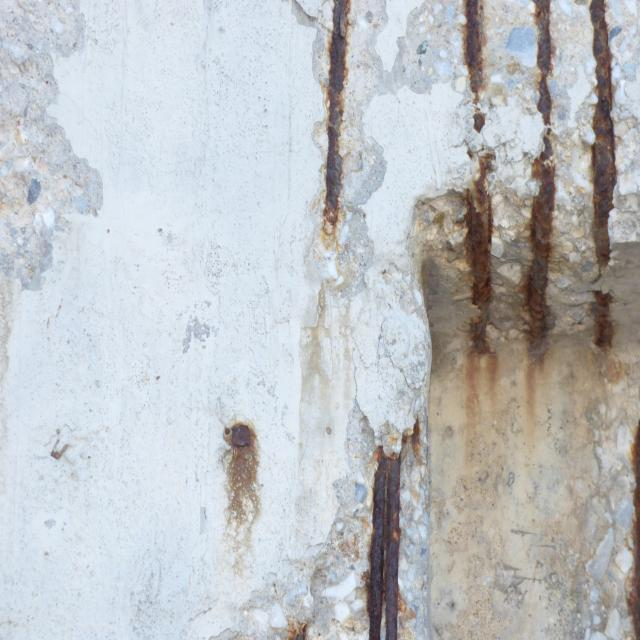corrosion: (426, 0, 640, 640), (211, 400, 428, 640), (307, 0, 360, 254)
